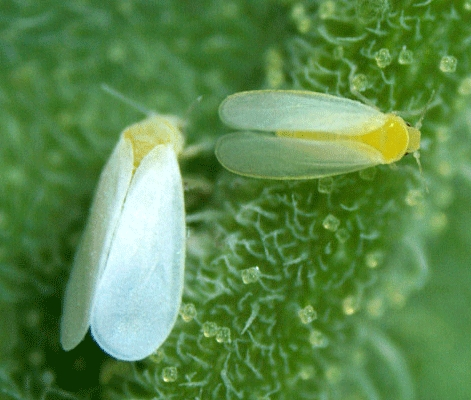whitefly: (58, 81, 199, 357), (216, 86, 432, 195)
